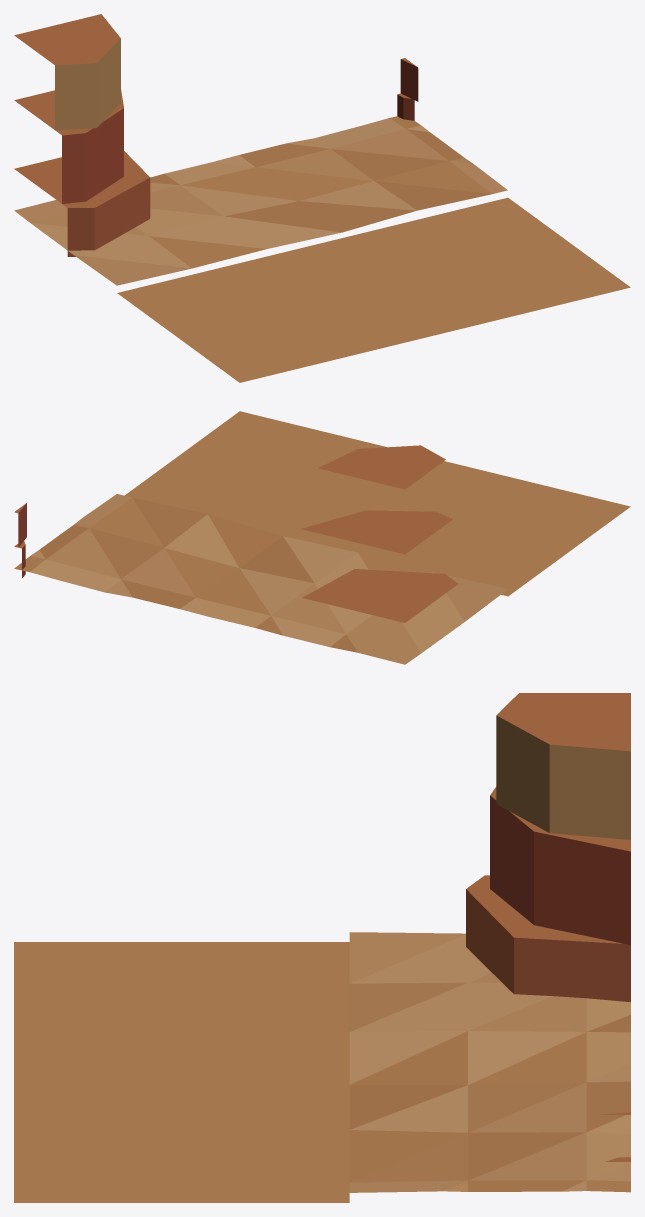
3 renders of one model, top to bottom at view 1: azimuth 30°, elevation 25°; view 2: azimuth 150°, elevation 25°; view 3: azimuth 270°, elevation 25°, orthographic. The views are drawn at different scales.
Visible parts, largest first — view 1: baked; view 2: baked; view 3: baked.
Boxes of the visible parts, bbox=[...] form: baked: bbox=[14, 14, 630, 382]; baked: bbox=[14, 411, 630, 664]; baked: bbox=[14, 693, 630, 1202].
Size of the model in its own units: 62.5 by 27.84 by 62.5.
